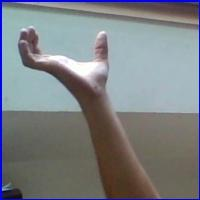B: (13, 21, 122, 93)
